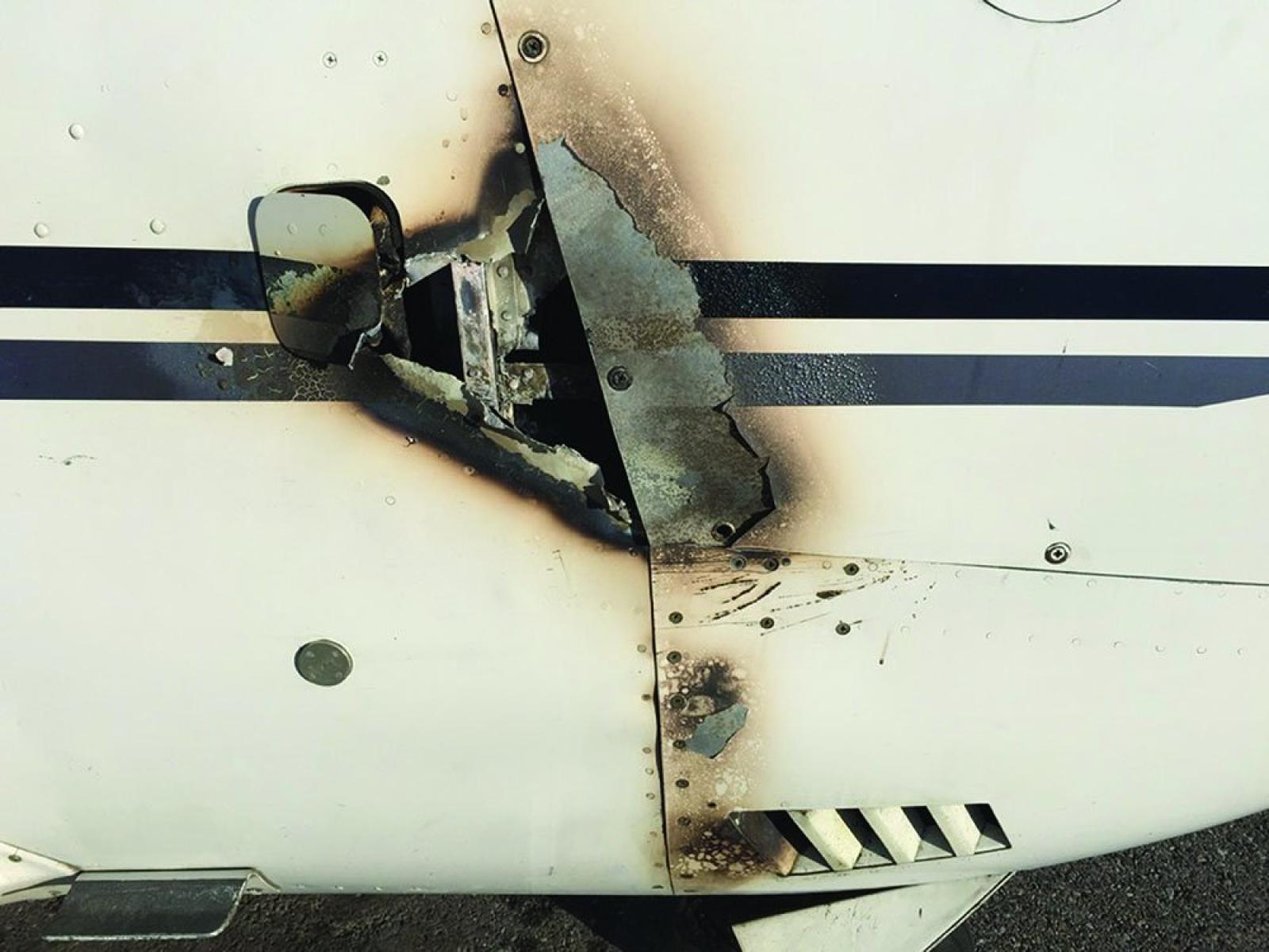Fuselage_damage: (250, 180, 409, 355), (250, 183, 381, 352), (395, 142, 542, 286), (457, 424, 631, 543), (453, 255, 549, 425), (268, 298, 345, 358), (379, 357, 458, 415), (453, 267, 483, 338)
Skin_Cover: (536, 136, 766, 547), (684, 703, 747, 757)
